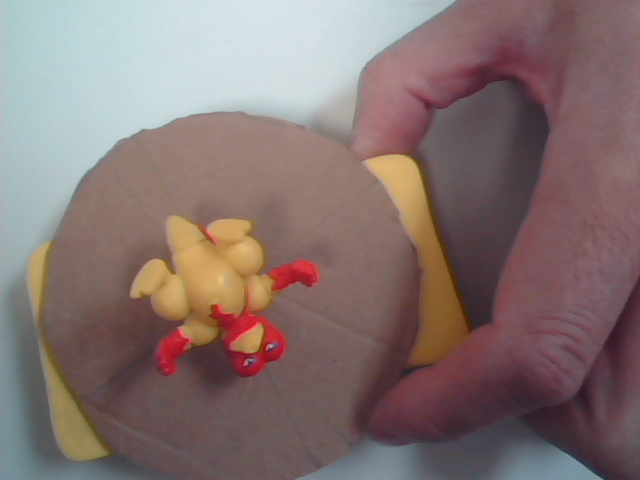magmar: (127, 194, 357, 405)
